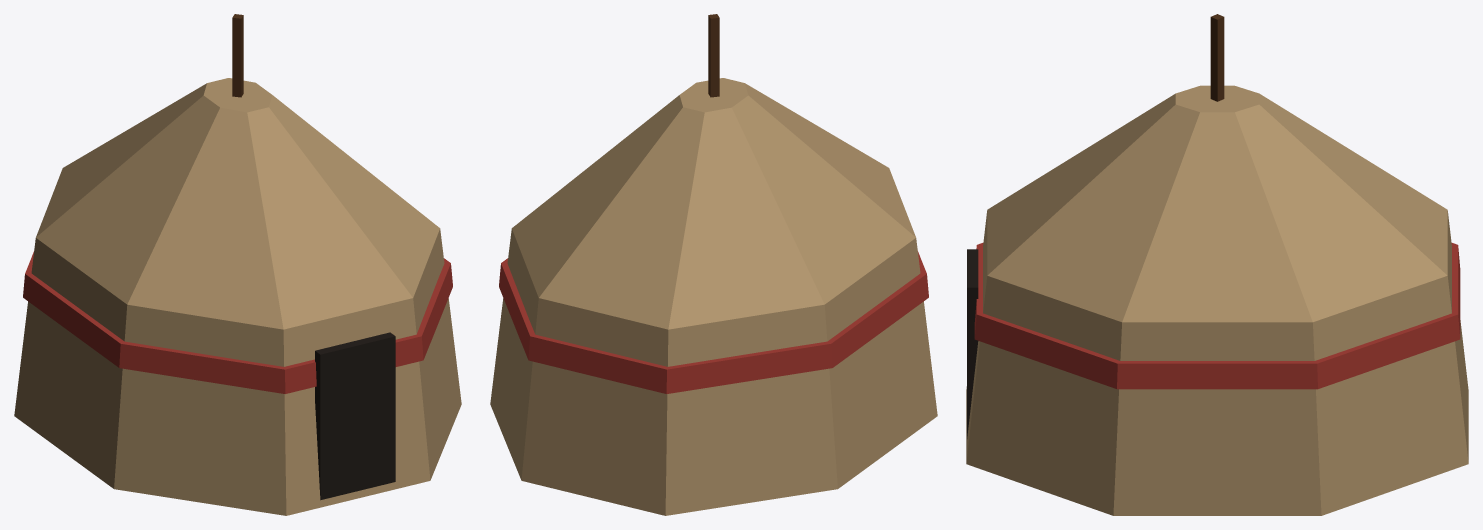
File: centaur_house_c.glb
3 renders of one model, left to right at view 1: azimuth 30°, elevation 25°; view 2: azimuth 150°, elevation 25°; view 3: azimuth 270°, elevation 25°, orthographic. The views are drawn at different scales.
Parts seen in each view (by area): view 1: centaur_house_c; view 2: centaur_house_c; view 3: centaur_house_c.
Boxes of the visible parts, x1=… form: centaur_house_c: x1=14, y1=14, x2=461, y2=515; centaur_house_c: x1=490, y1=14, x2=937, y2=515; centaur_house_c: x1=966, y1=14, x2=1468, y2=515.
Size of the model in its own units: 1.85 by 2 by 2.22.
